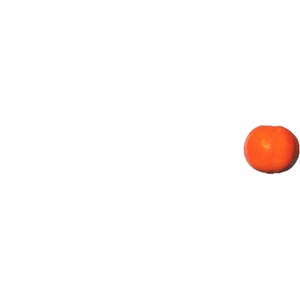tangerina: (245, 126, 300, 174)
